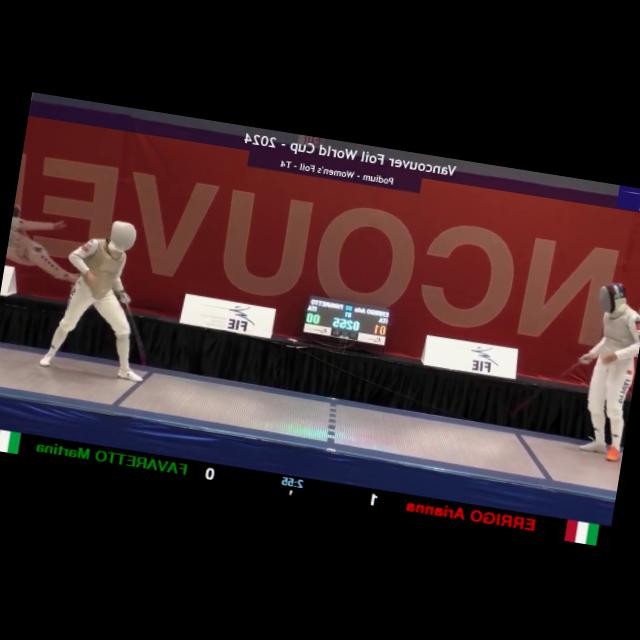blade: (510, 344, 588, 426), (112, 290, 158, 372)
